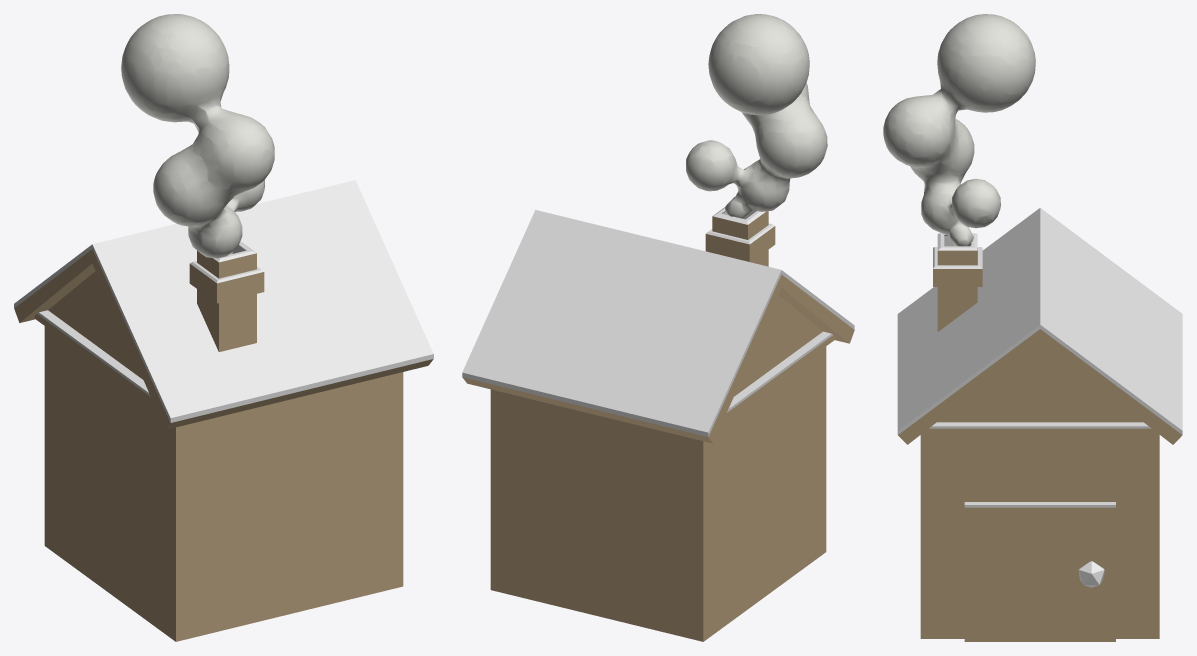
Rendered from island-winter-house.glb.
3 renders of one model, left to right at view 1: azimuth 30°, elevation 25°; view 2: azimuth 150°, elevation 25°; view 3: azimuth 270°, elevation 25°, orthographic. The views are drawn at different scales.
Parts seen in each view (by area): view 1: house.main, house.roof, Mball.007, house.chimney, house.attic, house.edge; view 2: house.main, house.roof, Mball.007, house.attic, house.chimney, house.edge; view 3: house.main, house.roof, Mball.007, house.attic, house.chimney, house.edge, Icosphere.
Part boxes in pixels (x1,y1,x2,y2): house.main: [44, 326, 403, 641]; house.roof: [14, 180, 433, 429]; Mball.007: [121, 14, 274, 258]; house.chimney: [189, 241, 264, 351]; house.attic: [48, 271, 143, 379]; house.edge: [34, 310, 154, 406]; house.main: [490, 346, 826, 641]; house.roof: [462, 210, 854, 443]; Mball.007: [686, 14, 827, 218]; house.attic: [734, 295, 822, 396]; house.chimney: [705, 207, 775, 266]; house.edge: [723, 331, 835, 421]; house.main: [920, 434, 1159, 641]; house.roof: [897, 208, 1182, 444]; Mball.007: [883, 14, 1035, 246]; house.attic: [937, 342, 1143, 422]; house.chimney: [933, 233, 982, 331]; house.edge: [921, 422, 1158, 434]; Icosphere: [1078, 561, 1104, 587].
Bounding box in the file's own units: 1.34 × 2.85 × 1.44.
